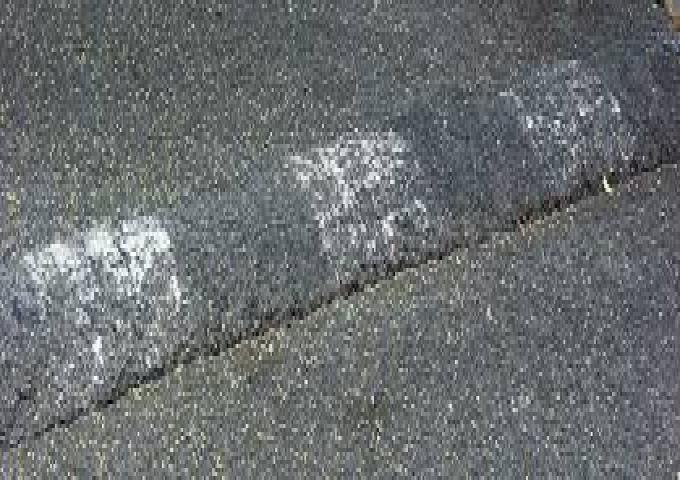speedbreaker: (10, 3, 679, 453)
